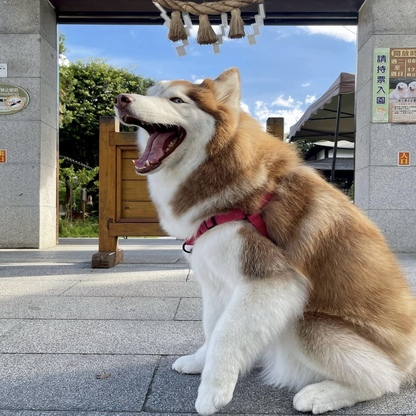husky: (112, 65, 416, 416)
